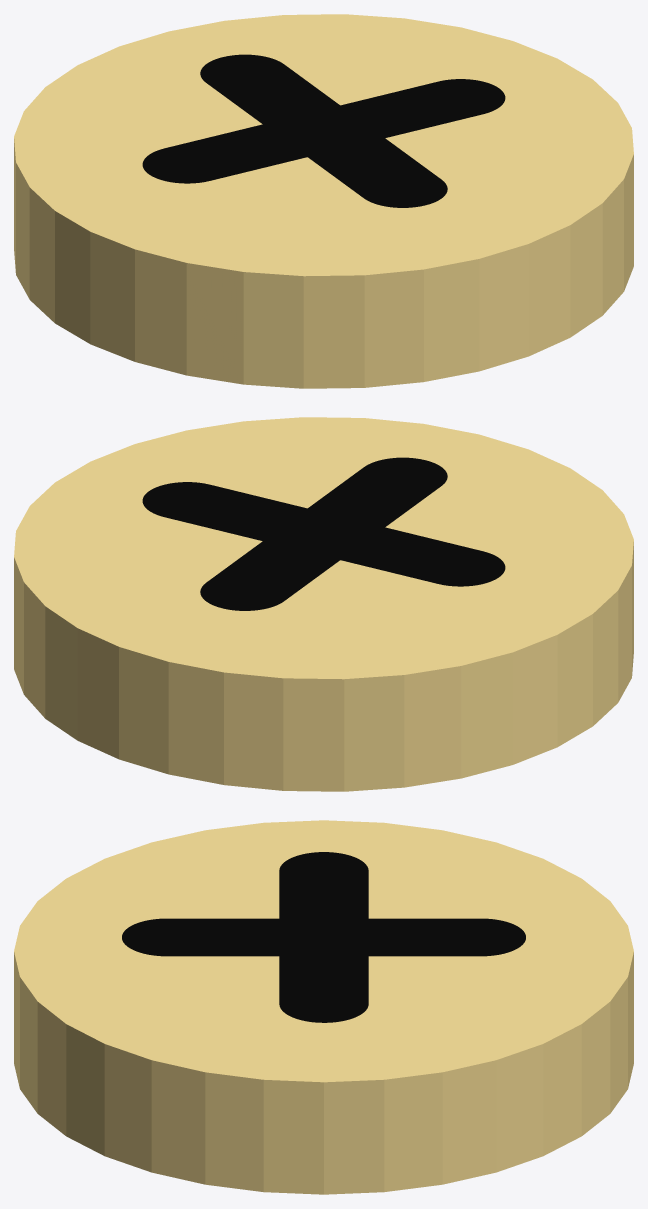
The model's file is plus-btn.glb.
3 views of the same model, one above another, from view 1: azimuth 30°, elevation 25°; view 2: azimuth 150°, elevation 25°; view 3: azimuth 270°, elevation 25° (orthographic).
Parts seen in each view (by area): view 1: Cylinder, Curve.001, Curve.002; view 2: Cylinder, Curve.001, Curve.002; view 3: Cylinder, Curve.001, Curve.002.
Boxes of the visible parts, box(x1,y1,x2,y2) form: Cylinder: box(14, 14, 633, 388); Curve.001: box(142, 79, 505, 183); Curve.002: box(200, 54, 447, 207); Cylinder: box(14, 417, 633, 791); Curve.001: box(142, 482, 505, 586); Curve.002: box(200, 457, 447, 610); Cylinder: box(14, 820, 633, 1194); Curve.001: box(279, 852, 368, 1022); Curve.002: box(122, 918, 525, 956).
Size of the model in its own units: 0.0802 by 0.018 by 0.0802.
